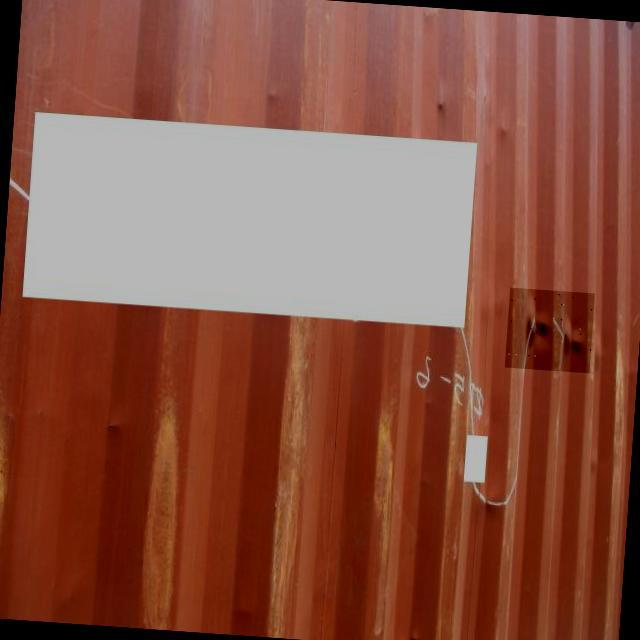Minor-Dent: (505, 288, 595, 374)
